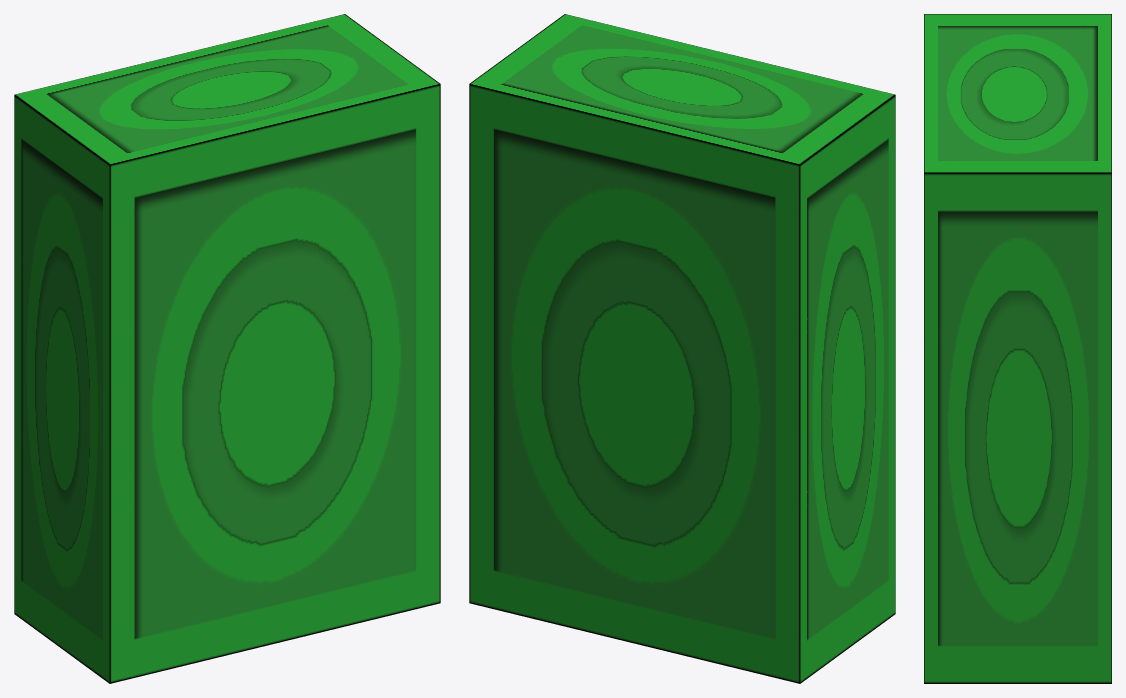
Rendered from DestroyableDoor.fbx.
3 renders of one model, left to right at view 1: azimuth 30°, elevation 25°; view 2: azimuth 150°, elevation 25°; view 3: azimuth 270°, elevation 25°, orthographic.
Visible parts, largest first — view 1: Box001; view 2: Box001; view 3: Box001.
Part boxes in pixels (<box>): Box001: <box>14,14,440,683</box>; Box001: <box>469,14,895,683</box>; Box001: <box>924,14,1111,683</box>.
Size of the model in its own units: 2 by 3 by 1.
Materials: 1 (1 with a texture image).
